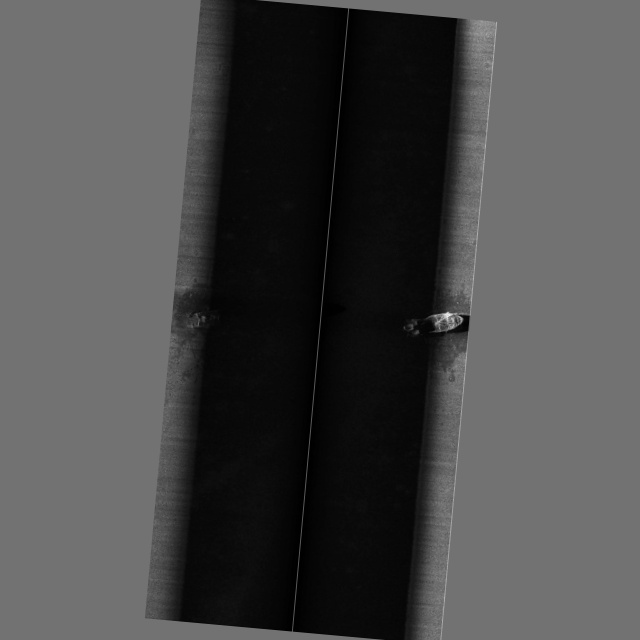Shipwreck: (184, 287, 463, 353)
